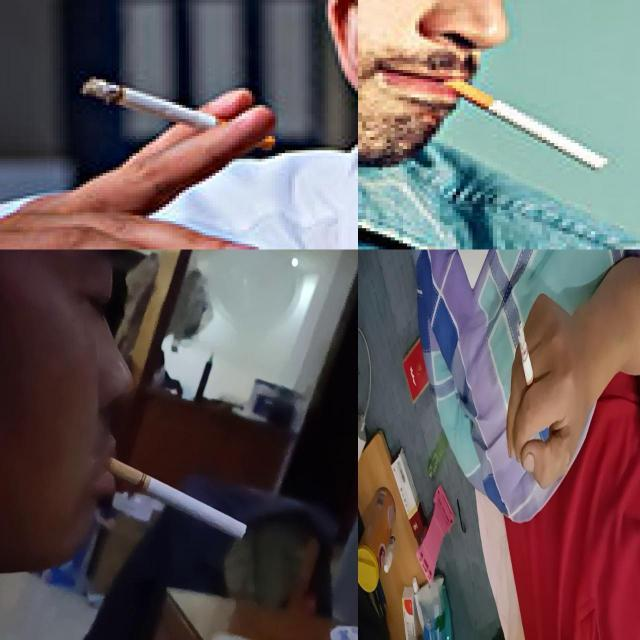smoke: (442, 74, 610, 170), (106, 458, 250, 542), (76, 70, 219, 128), (517, 320, 535, 406)
